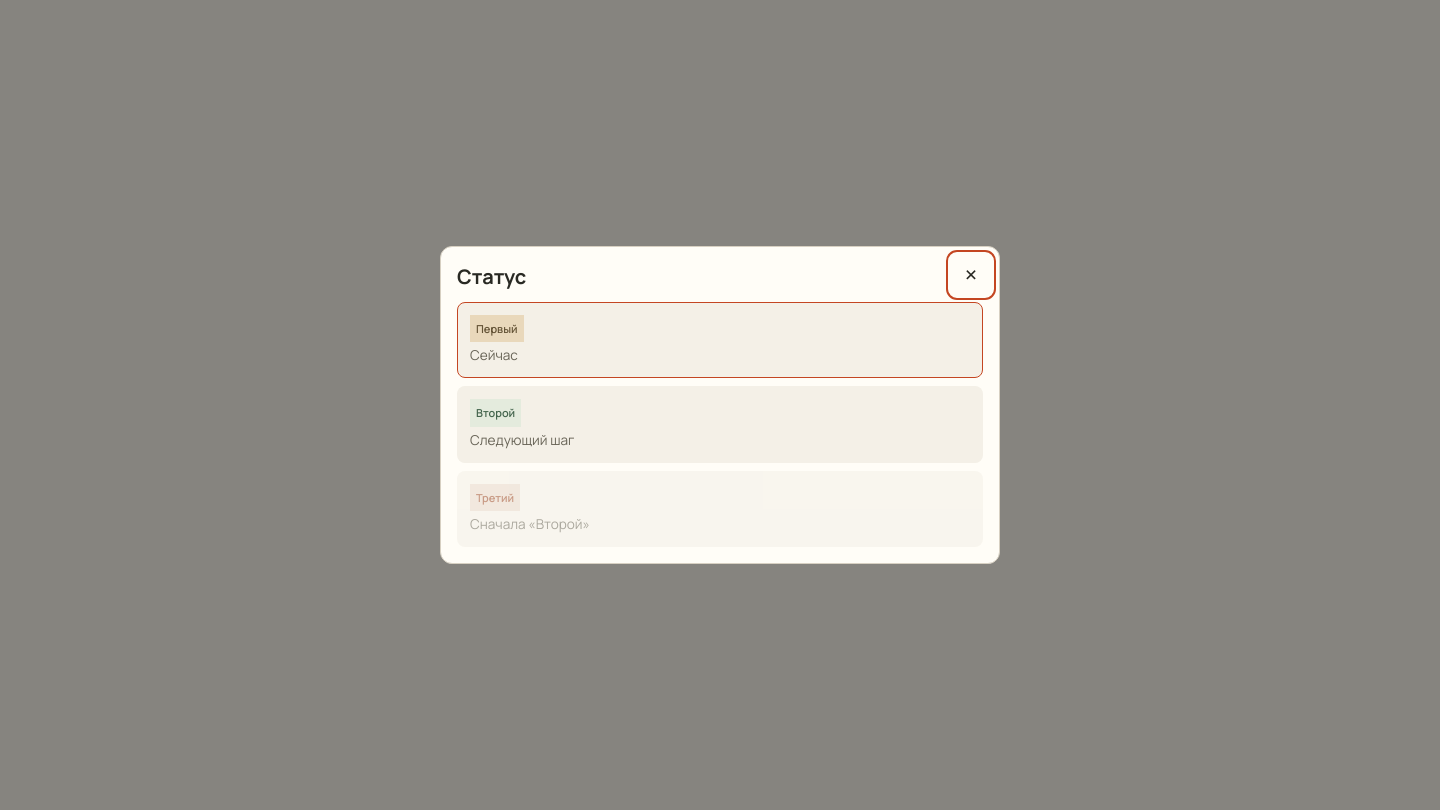
окно выбора статуса › ошибка сервера остаётся в окне
This screenshot has width=1440, height=810.
Click the button "Второй Следующий шаг" at (496, 413), box x1=457 y1=386 x2=983 y2=463
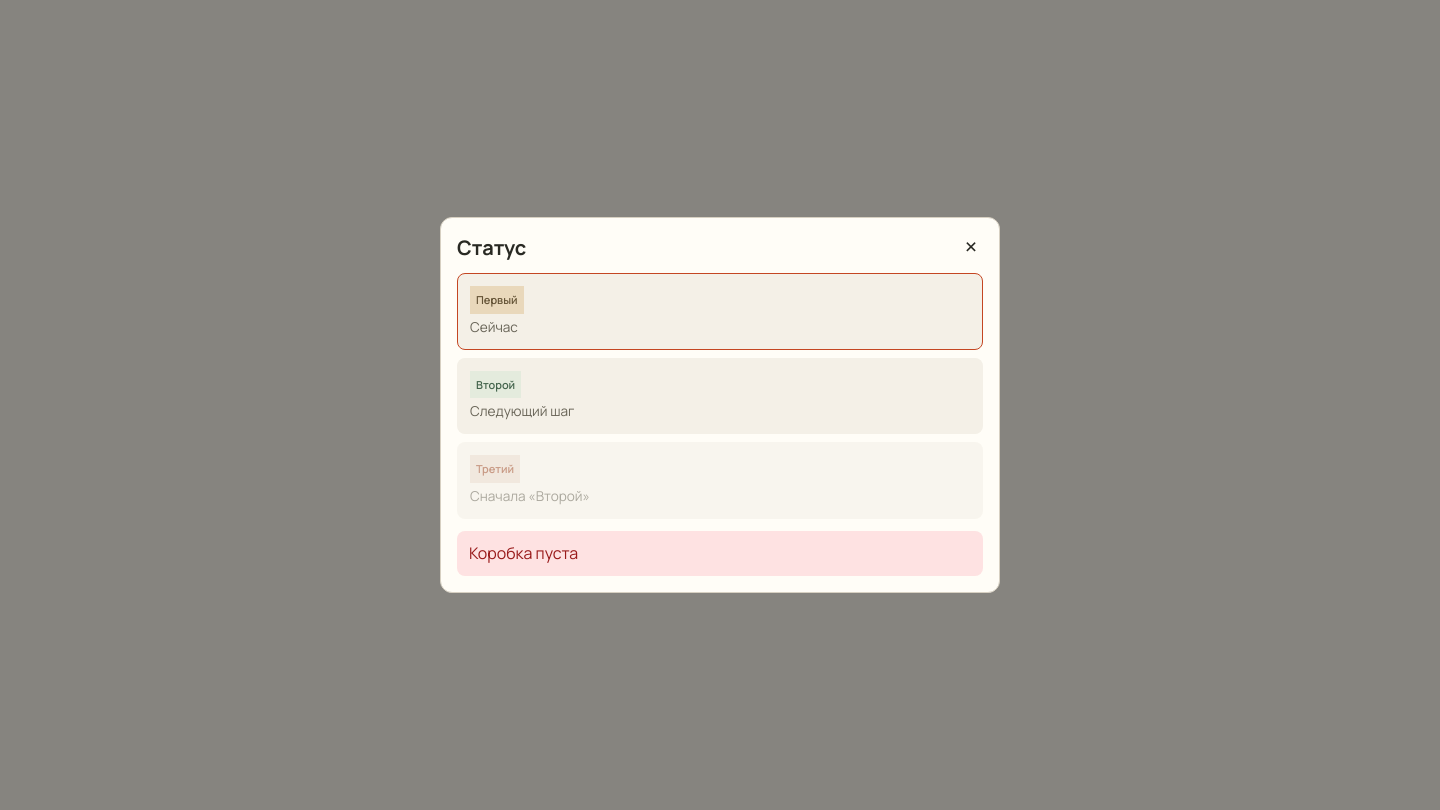
expect the text "Коробка пуста" is shown: met, box x1=457 y1=531 x2=983 y2=576
